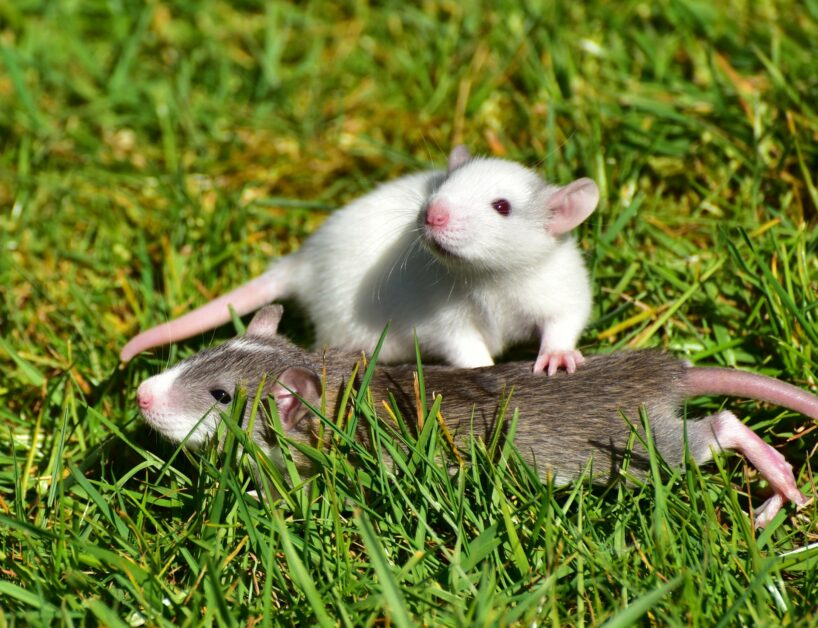mouse: (122, 325, 807, 505), (239, 118, 613, 364)
